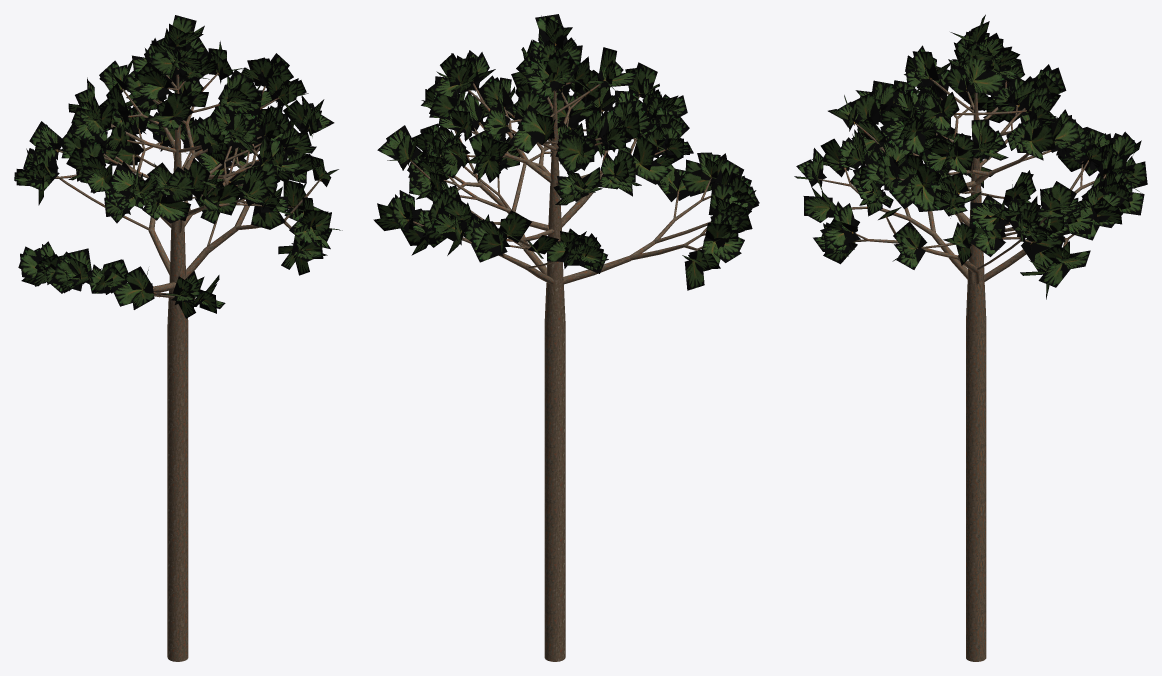
Rendered from tree_pine.glb.
3 renders of one model, left to right at view 1: azimuth 30°, elevation 25°; view 2: azimuth 150°, elevation 25°; view 3: azimuth 270°, elevation 25°, orthographic.
Parts seen in each view (by area): view 1: Trunk, Trunk#2, Leaf#299; view 2: Trunk, Trunk#2, Leaf#355; view 3: Trunk, Trunk#2, Leaf#696.
Part boxes in pixels (x1=…): Trunk: x1=167, y1=289, x2=188, y2=642; Trunk#2: x1=169, y1=201, x2=186, y2=282; Leaf#299: x1=108, y1=163, x2=144, y2=204; Trunk: x1=544, y1=283, x2=565, y2=642; Trunk#2: x1=546, y1=183, x2=563, y2=286; Leaf#355: x1=431, y1=208, x2=466, y2=244; Trunk: x1=966, y1=284, x2=986, y2=642; Trunk#2: x1=967, y1=183, x2=984, y2=287; Leaf#696: x1=966, y1=72, x2=1006, y2=95.
Size of the model in its own units: 8.15 by 16.23 by 8.24.
3 materials, 3 textured.
